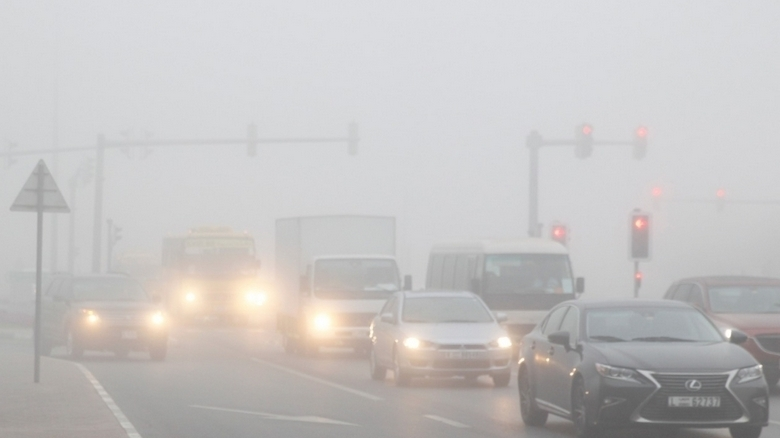bus: (425, 235, 585, 365), (156, 228, 261, 330)
car: (514, 292, 767, 435), (366, 286, 516, 388), (40, 271, 164, 360), (658, 275, 779, 361)
truck: (275, 216, 400, 350)
